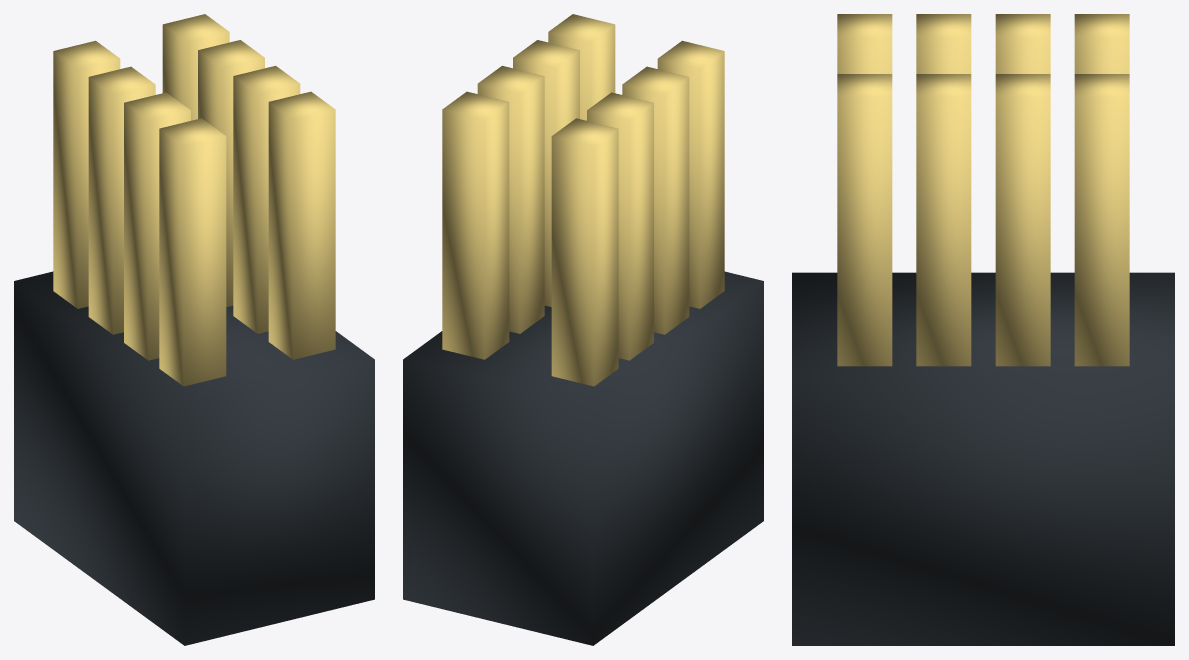
The model's file is 53_L95_J2_PWMAndClockOutputHeader.fbx.
The picture shows the model from 3 angles, left to right: view 1: azimuth 30°, elevation 25°; view 2: azimuth 150°, elevation 25°; view 3: azimuth 270°, elevation 25°; orthographic projection. The views are drawn at different scales.
Parts seen in each view (by area): view 1: L95_PWMAndClockOutputHeader_Part_0000, L95_PWMAndClockOutputHeader_Part_0001; view 2: L95_PWMAndClockOutputHeader_Part_0000, L95_PWMAndClockOutputHeader_Part_0001; view 3: L95_PWMAndClockOutputHeader_Part_0000, L95_PWMAndClockOutputHeader_Part_0001.
Part boxes in pixels (box(x1,y1,x2,y2)): L95_PWMAndClockOutputHeader_Part_0000: box(14, 271, 374, 645); L95_PWMAndClockOutputHeader_Part_0001: box(53, 14, 335, 386); L95_PWMAndClockOutputHeader_Part_0000: box(403, 271, 763, 645); L95_PWMAndClockOutputHeader_Part_0001: box(442, 14, 724, 386); L95_PWMAndClockOutputHeader_Part_0000: box(792, 272, 1174, 645); L95_PWMAndClockOutputHeader_Part_0001: box(837, 14, 1129, 366).
Size of the model in its own units: 0.0672 by 0.162 by 0.1044.
